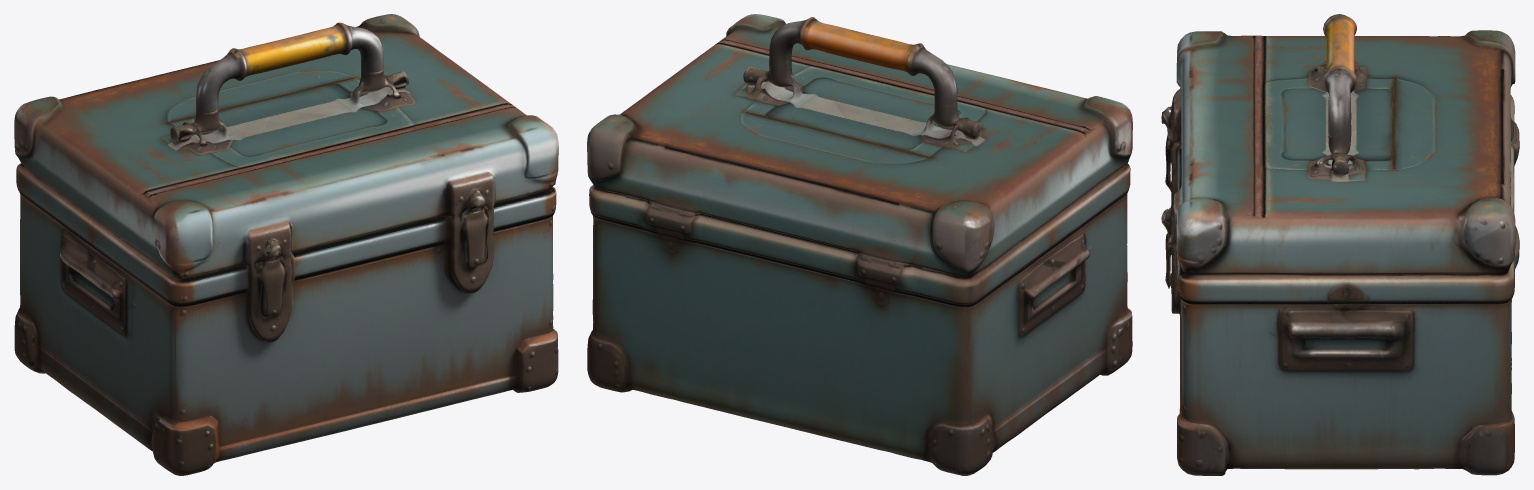
Rendered from toolbox1_model.fbx.
The picture shows the model from 3 angles, left to right: view 1: azimuth 30°, elevation 25°; view 2: azimuth 150°, elevation 25°; view 3: azimuth 270°, elevation 25°; orthographic projection.
Visible parts, largest first — view 1: Mesh1_Mesh1.018; view 2: Mesh1_Mesh1.018; view 3: Mesh1_Mesh1.018.
Boxes of the visible parts, x1,y1,x2,y2 form: Mesh1_Mesh1.018: (14, 14, 558, 475); Mesh1_Mesh1.018: (587, 14, 1132, 475); Mesh1_Mesh1.018: (1161, 14, 1519, 475).
Bounding box in the file's own units: 200 × 162 × 152.
Materials: 1 (1 with a texture image).
